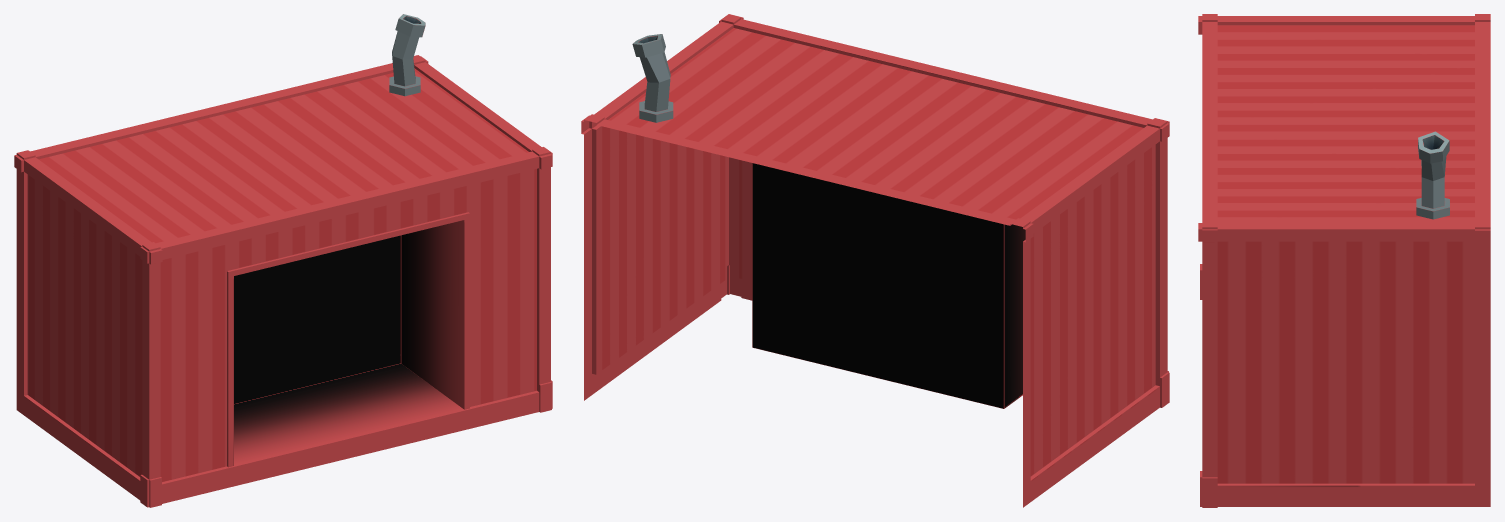
The model's file is ShippingContainer.fbx.
3 renders of one model, left to right at view 1: azimuth 30°, elevation 25°; view 2: azimuth 150°, elevation 25°; view 3: azimuth 270°, elevation 25°, orthographic. The views are drawn at different scales.
Visible parts, largest first — view 1: Container; view 2: Container; view 3: Container.
Boxes of the visible parts, x1=… form: Container: x1=14, y1=14, x2=552, y2=507; Container: x1=581, y1=14, x2=1169, y2=507; Container: x1=1198, y1=14, x2=1490, y2=507.
Size of the model in its own units: 35.45 by 26.92 by 20.28.
